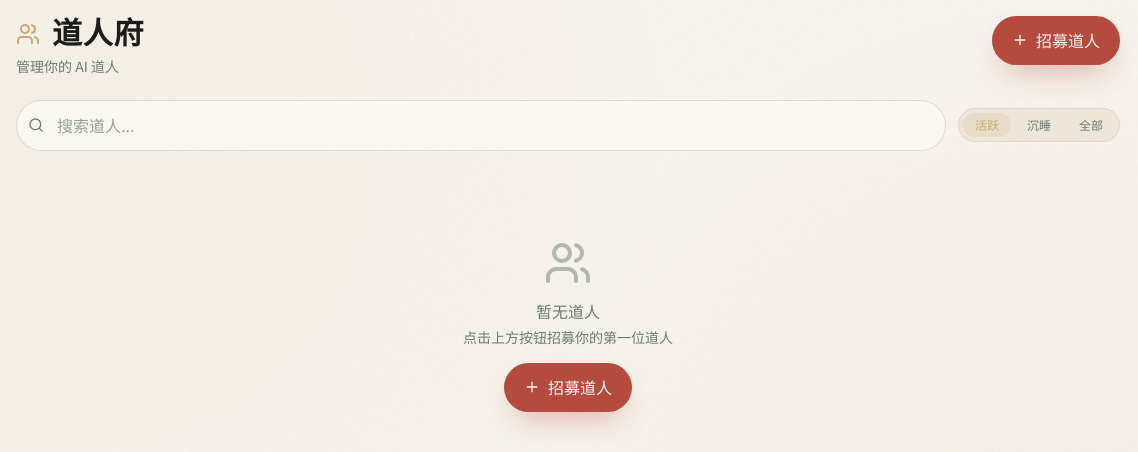
Scenario: AgentsPage › 非默认筛选下空列表显示筛选空态,不出现招募引导文案
What coordinates should you click on to do the following:
click the button "沉睡"
I would click on:
 (1039, 125)
Its box is [1015,113,1063,137].
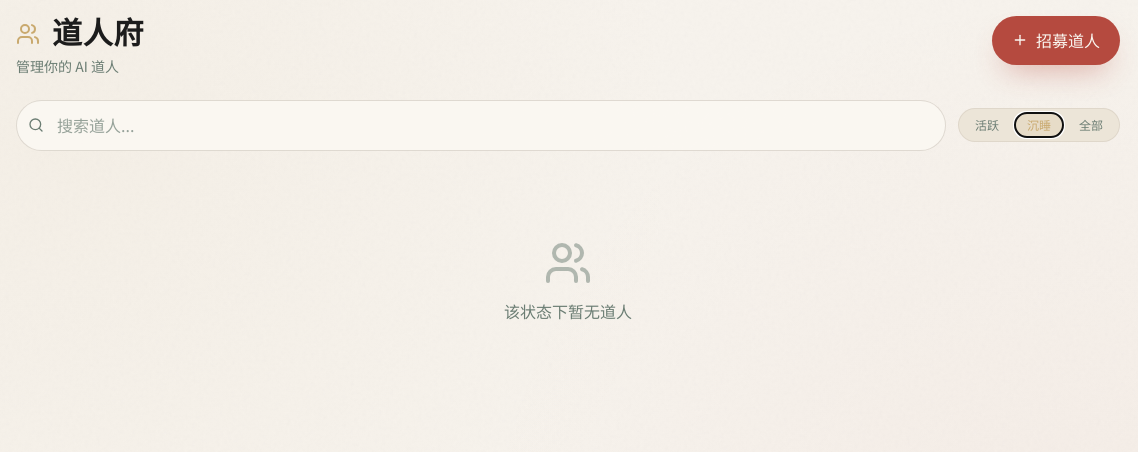
Now the heading "该状态下暂无道人" is shown, box [504,299,632,323]
Now the text "点击上方按钮招募你的第一位道人" is gone
